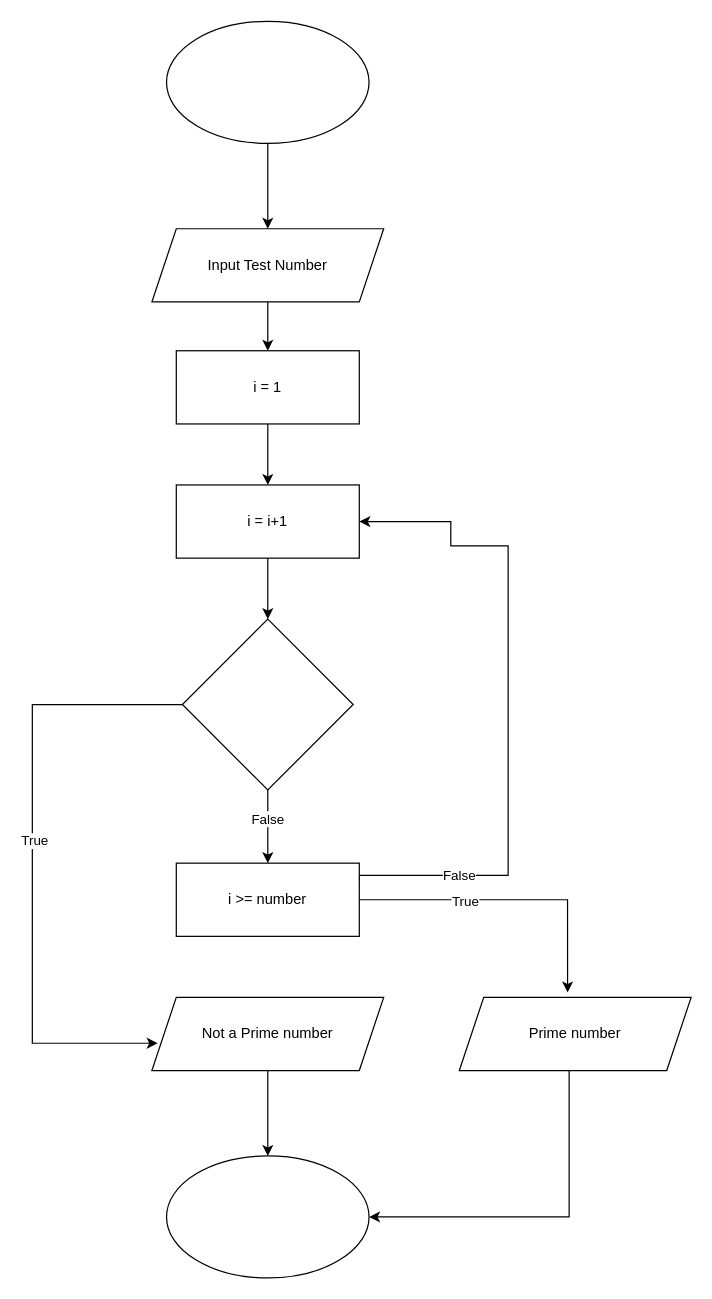
Some shapes in this 712 by 1299 pixel diagram are drawn without their labels. Here are the shapes that lost their labels. From the top down, the centre of each, then its label:
At (267,81): "Start".
At (267,704): "number % i == 0".
At (267,1216): "End".
